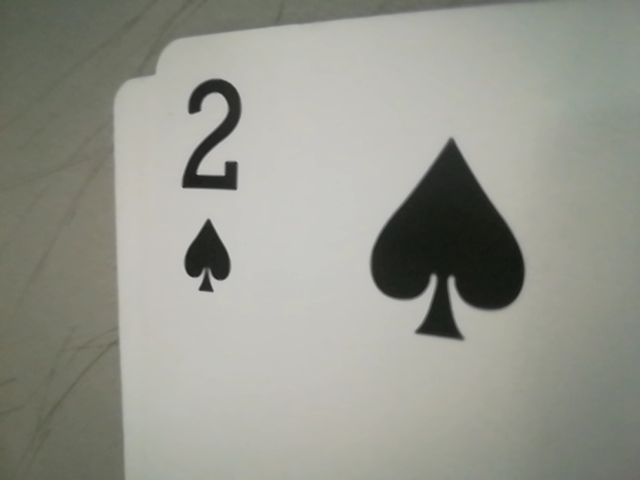ht 2: (171, 57, 264, 307)
